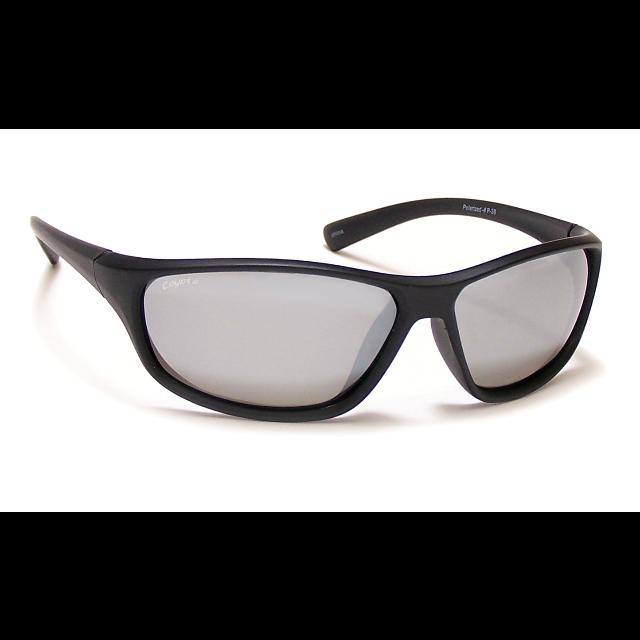Sunglasses: (18, 192, 610, 424)
